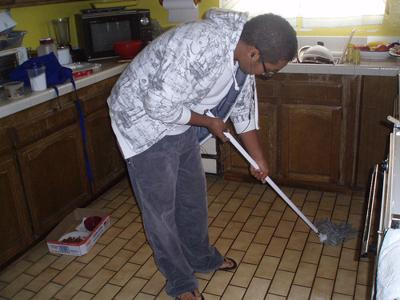person: (105, 14, 301, 300)
